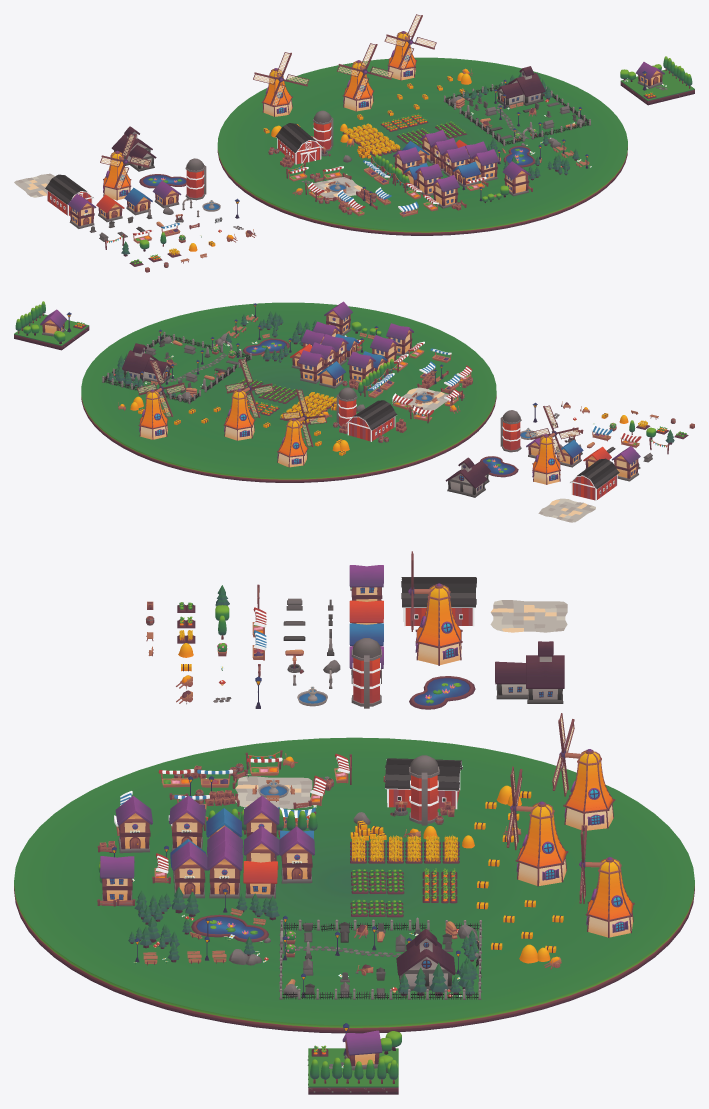
File: village__town_assets.glb
3 renders of one model, top to bottom at view 1: azimuth 30°, elevation 25°; view 2: azimuth 150°, elevation 25°; view 3: azimuth 270°, elevation 25°, orthographic. The views are drawn at different scales.
Parts seen in each view (by area): view 1: World, Windmill.002, Windmill.001, Windmill.003, Windmill, Barn.001, House_Purple.002, Barn, Chapel, Sphere.001, House_2Story_Purple, House_2Story_Purple.009 (+16 smaller); view 2: World, Windmill.002, Windmill, Windmill.003, Windmill.001, Barn.001, Barn, House_Purple.002, Chapel, Plane.004, Sphere.001, House_2Story_Purple.006 (+14 smaller); view 3: World, Windmill.002, Windmill.001, Windmill.003, Chapel, Windmill, Barn, Plane.004, Barn.001, House_Purple.002, Sphere.001, Sphere.002 (+15 smaller).
Part boxes in pixels (x1=…): World: x1=217, y1=57, x2=627, y2=235; Windmill.002: x1=337, y1=43, x2=393, y2=111; Windmill.001: x1=253, y1=52, x2=309, y2=116; Windmill.003: x1=384, y1=14, x2=436, y2=80; Windmill: x1=100, y1=133, x2=150, y2=200; Barn.001: x1=275, y1=123, x2=323, y2=164; House_Purple.002: x1=496, y1=66, x2=545, y2=107; Barn: x1=45, y1=174, x2=94, y2=216; Chapel: x1=111, y1=126, x2=156, y2=171; Sphere.001: x1=185, y1=158, x2=206, y2=200; House_2Story_Purple: x1=68, y1=194, x2=96, y2=228; House_2Story_Purple.009: x1=431, y1=175, x2=459, y2=208; World: x1=81, y1=302, x2=496, y2=482; Windmill.002: x1=223, y1=359, x2=273, y2=440; Windmill: x1=529, y1=405, x2=580, y2=484; Windmill.003: x1=137, y1=360, x2=186, y2=439; Windmill.001: x1=277, y1=389, x2=326, y2=467; Barn.001: x1=346, y1=400, x2=397, y2=441; Barn: x1=569, y1=458, x2=619, y2=500; House_Purple.002: x1=122, y1=343, x2=171, y2=384; Chapel: x1=445, y1=457, x2=490, y2=497; Plane.004: x1=538, y1=498, x2=595, y2=522; Sphere.001: x1=500, y1=410, x2=521, y2=452; House_2Story_Purple.006: x1=298, y1=350, x2=326, y2=383; World: x1=14, y1=737, x2=694, y2=1033; Windmill.002: x1=506, y1=766, x2=568, y2=886; Windmill.001: x1=552, y1=713, x2=615, y2=831; Windmill.003: x1=579, y1=825, x2=634, y2=937; Chapel: x1=495, y1=641, x2=564, y2=703; Windmill: x1=408, y1=551, x2=462, y2=665; Barn: x1=401, y1=577, x2=476, y2=626; Plane.004: x1=490, y1=600, x2=567, y2=632; Barn.001: x1=384, y1=758, x2=462, y2=809; House_Purple.002: x1=396, y1=929, x2=455, y2=990; Sphere.001: x1=351, y1=638, x2=381, y2=708; Sphere.002: x1=409, y1=755, x2=439, y2=825.
Bounding box in the file's own units: 64.31 × 7.3 × 37.72.
Materials: 1 (1 with a texture image).
